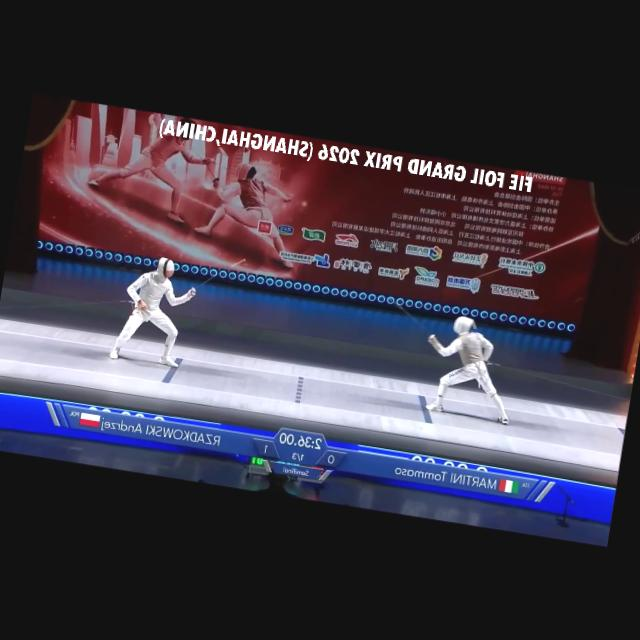blade: (185, 247, 252, 308), (379, 294, 443, 345)
